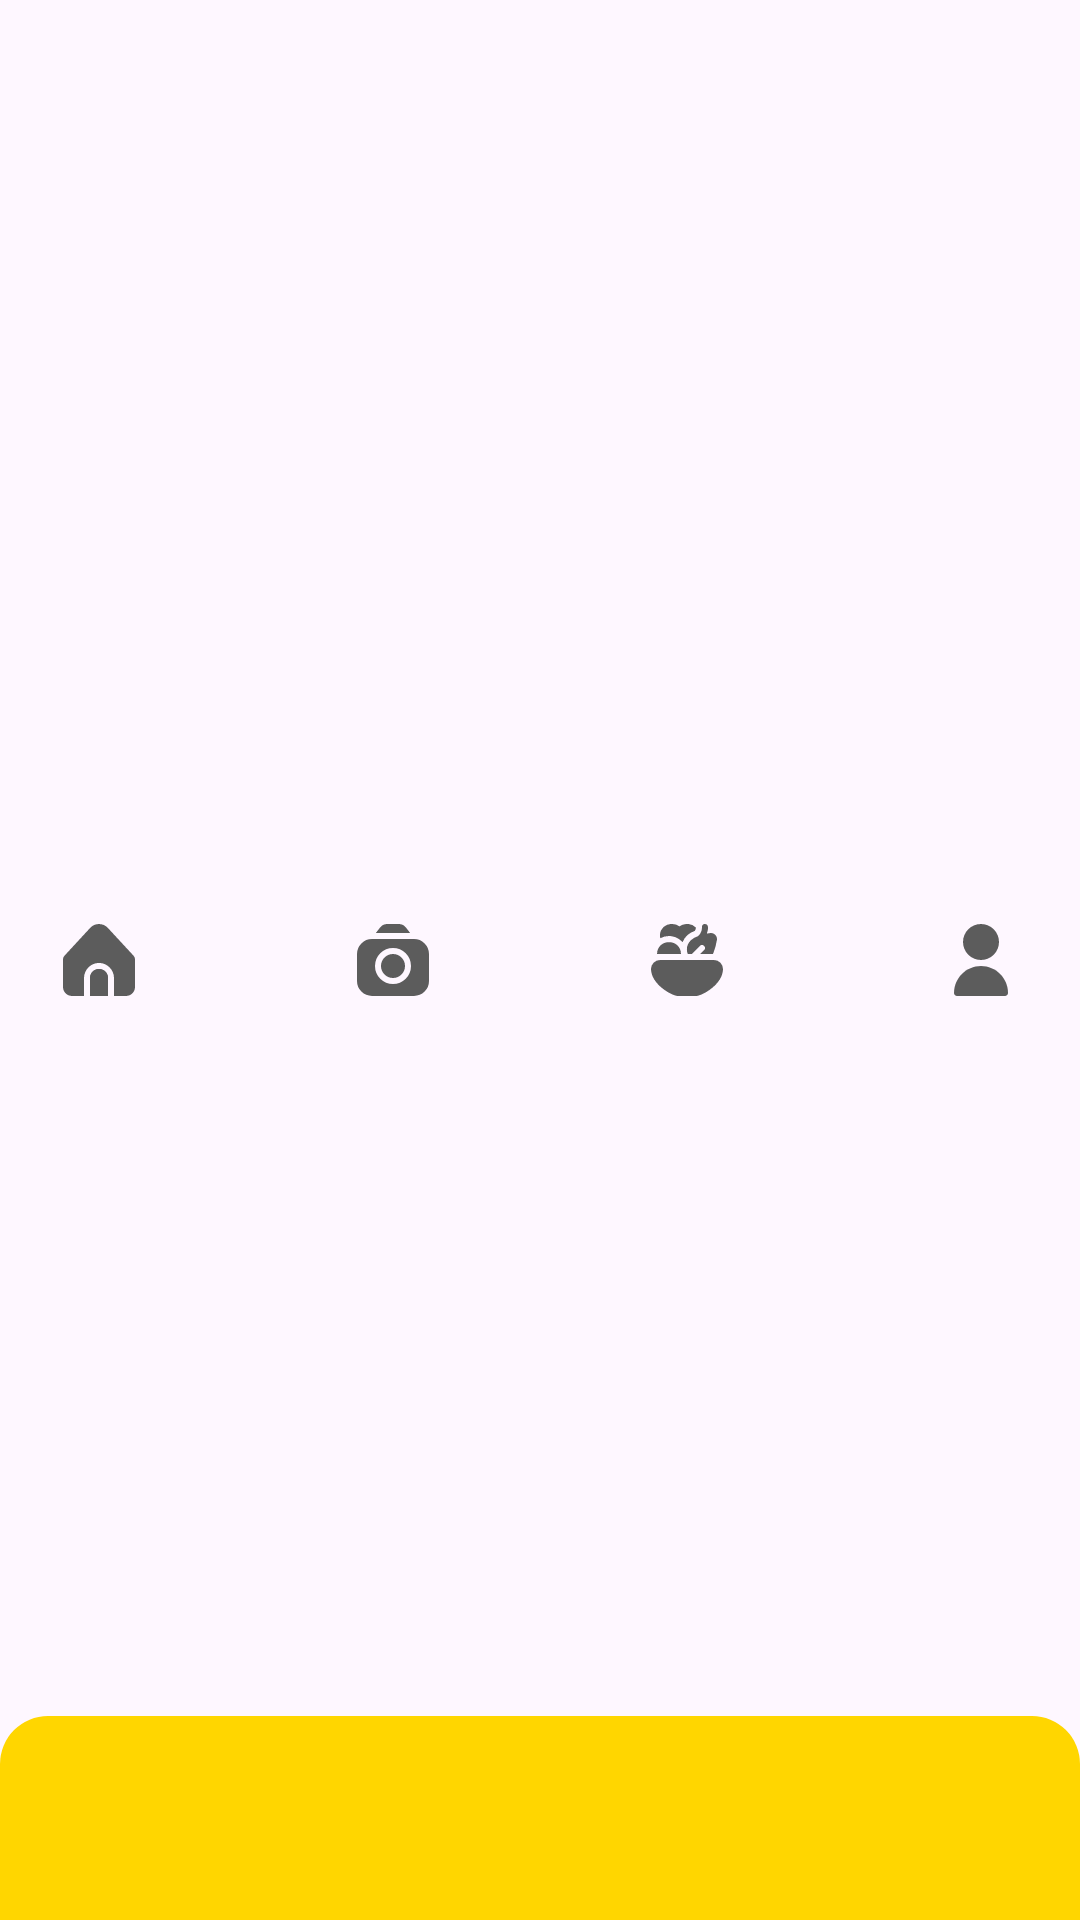

Screen size 1080w x 1920h. Icon name, then its box in pixels as (x1, y1, x2, y2):
camera: (357, 924, 429, 996)
home: (63, 924, 135, 996)
salad: (651, 924, 723, 996)
user: (954, 924, 1008, 996)
